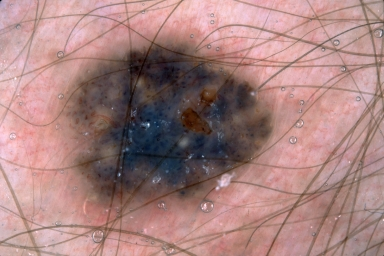seborrheic keratosis: (53, 37, 279, 214)
